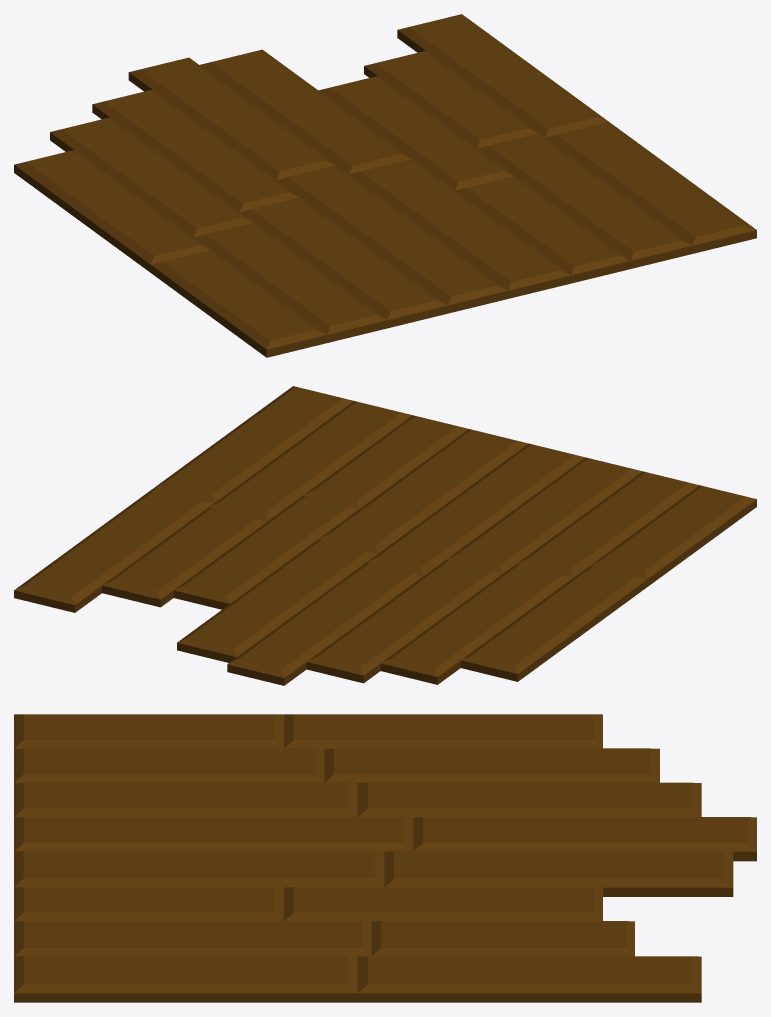
File: WoodenFloorEnd2.fbx
The picture shows the model from 3 angles, top to bottom: view 1: azimuth 30°, elevation 25°; view 2: azimuth 150°, elevation 25°; view 3: azimuth 270°, elevation 25°; orthographic projection. The views are drawn at different scales.
Visible parts, largest first — view 1: Cube.1710, Cube.1711, Cube.1708, Cube.1709, Cube.1707, Cube.1704, Cube.1713, Cube.1700, Cube.1705, Cube.1702, Cube.1701, Cube.1714 (+4 smaller); view 2: Cube.1710, Cube.1707, Cube.1711, Cube.1704, Cube.1700, Cube.1705, Cube.1702, Cube.1708, Cube.1709, Cube.1701, Cube.1713, Cube.1703 (+4 smaller); view 3: Cube.1707, Cube.1708, Cube.1704, Cube.1710, Cube.1711, Cube.1709, Cube.1705, Cube.1702, Cube.1713, Cube.1701, Cube.1700, Cube.1714 (+4 smaller).
Part boxes in pixels (left/top/right/bottom): Cube.1710: left=276, top=165, right=507, bottom=313; Cube.1711: left=349, top=159, right=570, bottom=298; Cube.1708: left=545, top=122, right=756, bottom=253; Cube.1709: left=477, top=133, right=692, bottom=268; Cube.1707: left=397, top=14, right=608, bottom=137; Cube.1704: left=200, top=49, right=411, bottom=174; Cube.1713: left=240, top=197, right=447, bottom=328; Cube.1700: left=14, top=150, right=210, bottom=272; Cube.1705: left=128, top=57, right=336, bottom=179; Cube.1702: left=92, top=89, right=299, bottom=211; Cube.1701: left=50, top=117, right=253, bottom=237; Cube.1714: left=194, top=223, right=387, bottom=342; Cube.1710: left=367, top=443, right=585, bottom=575; Cube.1707: left=14, top=488, right=214, bottom=612; Cube.1711: left=319, top=429, right=528, bottom=553; Cube.1704: left=177, top=539, right=377, bottom=662; Cube.1700: left=460, top=565, right=647, bottom=681; Cube.1705: left=227, top=562, right=423, bottom=685; Cube.1702: left=306, top=559, right=502, bottom=683; Cube.1708: left=154, top=386, right=353, bottom=502; Cube.1709: left=209, top=401, right=412, bottom=521; Cube.1701: left=380, top=563, right=573, bottom=684; Cube.1713: left=446, top=457, right=642, bottom=573; Cube.1703: left=173, top=495, right=358, bottom=609; Cube.1707: left=357, top=956, right=701, bottom=1002; Cube.1708: left=14, top=956, right=357, bottom=1002; Cube.1704: left=384, top=851, right=733, bottom=896; Cube.1710: left=14, top=817, right=413, bottom=851; Cube.1711: left=14, top=851, right=384, bottom=887; Cube.1709: left=14, top=921, right=371, bottom=956; Cube.1705: left=413, top=817, right=756, bottom=861; Cube.1702: left=357, top=782, right=701, bottom=817; Cube.1713: left=14, top=782, right=357, bottom=817; Cube.1701: left=324, top=748, right=659, bottom=782; Cube.1700: left=284, top=714, right=602, bottom=748; Cube.1714: left=14, top=748, right=324, bottom=782.
Size of the model in its own units: 844 by 20 by 951.
